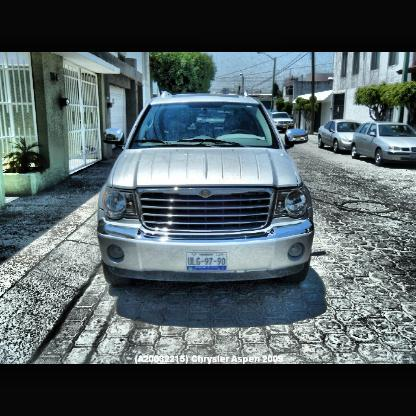Chrysler Aspen SUV 2009: (99, 89, 318, 291)
